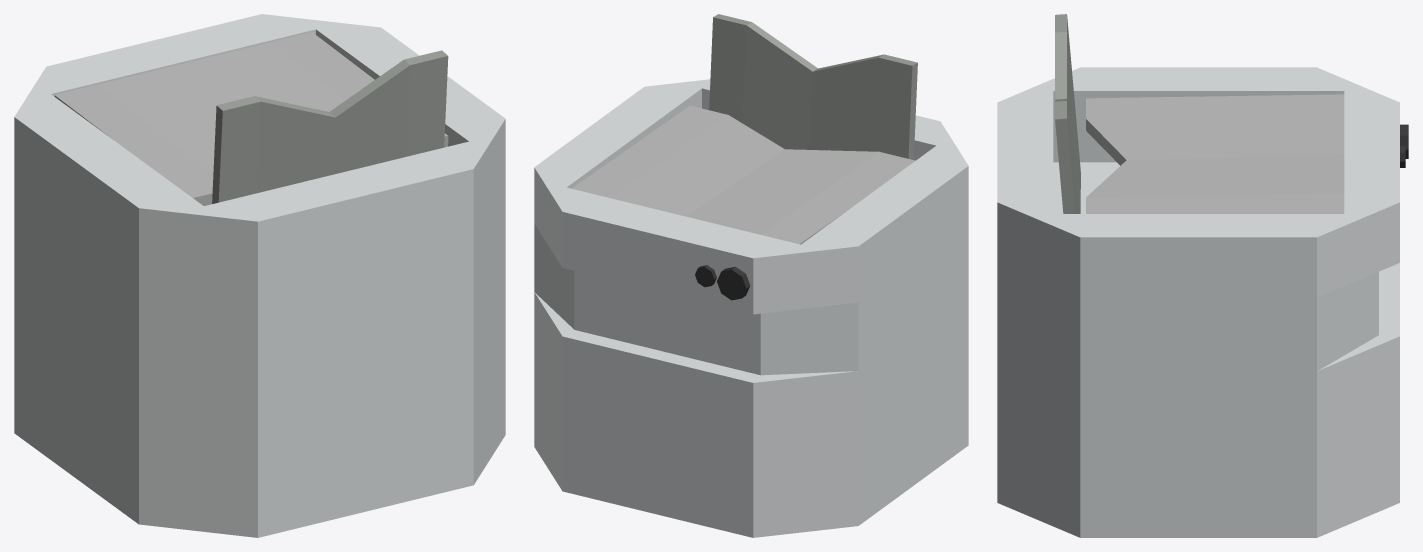
File: Copy_Machine.fbx
The picture shows the model from 3 angles, left to right: view 1: azimuth 30°, elevation 25°; view 2: azimuth 150°, elevation 25°; view 3: azimuth 270°, elevation 25°; orthographic projection. The views are drawn at different scales.
Visible parts, largest first — view 1: Plane.095; view 2: Plane.095; view 3: Plane.095.
Part boxes in pixels (x1,y1,x2,y2): Plane.095: (14, 14, 505, 537); Plane.095: (534, 14, 968, 537); Plane.095: (997, 14, 1408, 537).
Size of the model in its own units: 82.88 by 87.88 by 84.66.
Materials: 1 (1 with a texture image).
